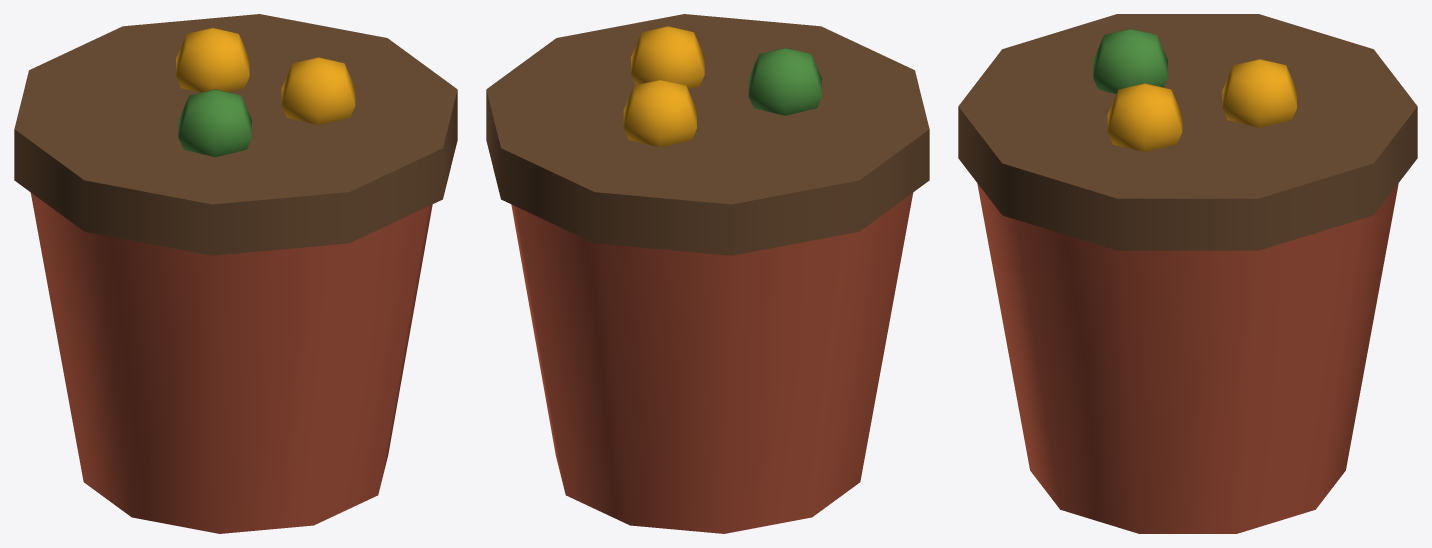
The model's file is seeds.glb.
The picture shows the model from 3 angles, left to right: view 1: azimuth 30°, elevation 25°; view 2: azimuth 150°, elevation 25°; view 3: azimuth 270°, elevation 25°; orthographic projection.
Parts seen in each view (by area): view 1: seeds; view 2: seeds; view 3: seeds.
Boxes of the visible parts, <box> form: seeds: <box>14,14,457,533</box>; seeds: <box>486,14,929,533</box>; seeds: <box>958,14,1417,533</box>.
Bounding box in the file's own units: 0.3043 × 0.32 × 0.32.
